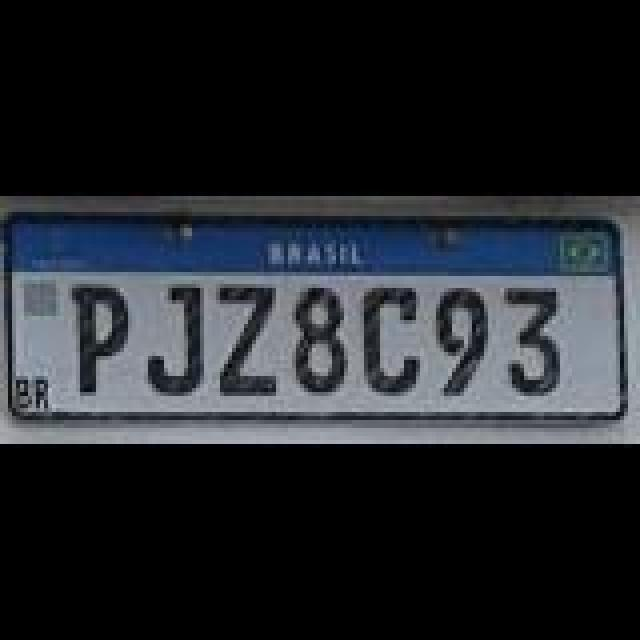3: (504, 290, 560, 398)
8: (290, 278, 350, 394)
9: (434, 288, 494, 400)
C: (356, 284, 420, 396)
J: (146, 284, 206, 396)
P: (68, 278, 132, 394)
Z: (216, 280, 272, 392)
